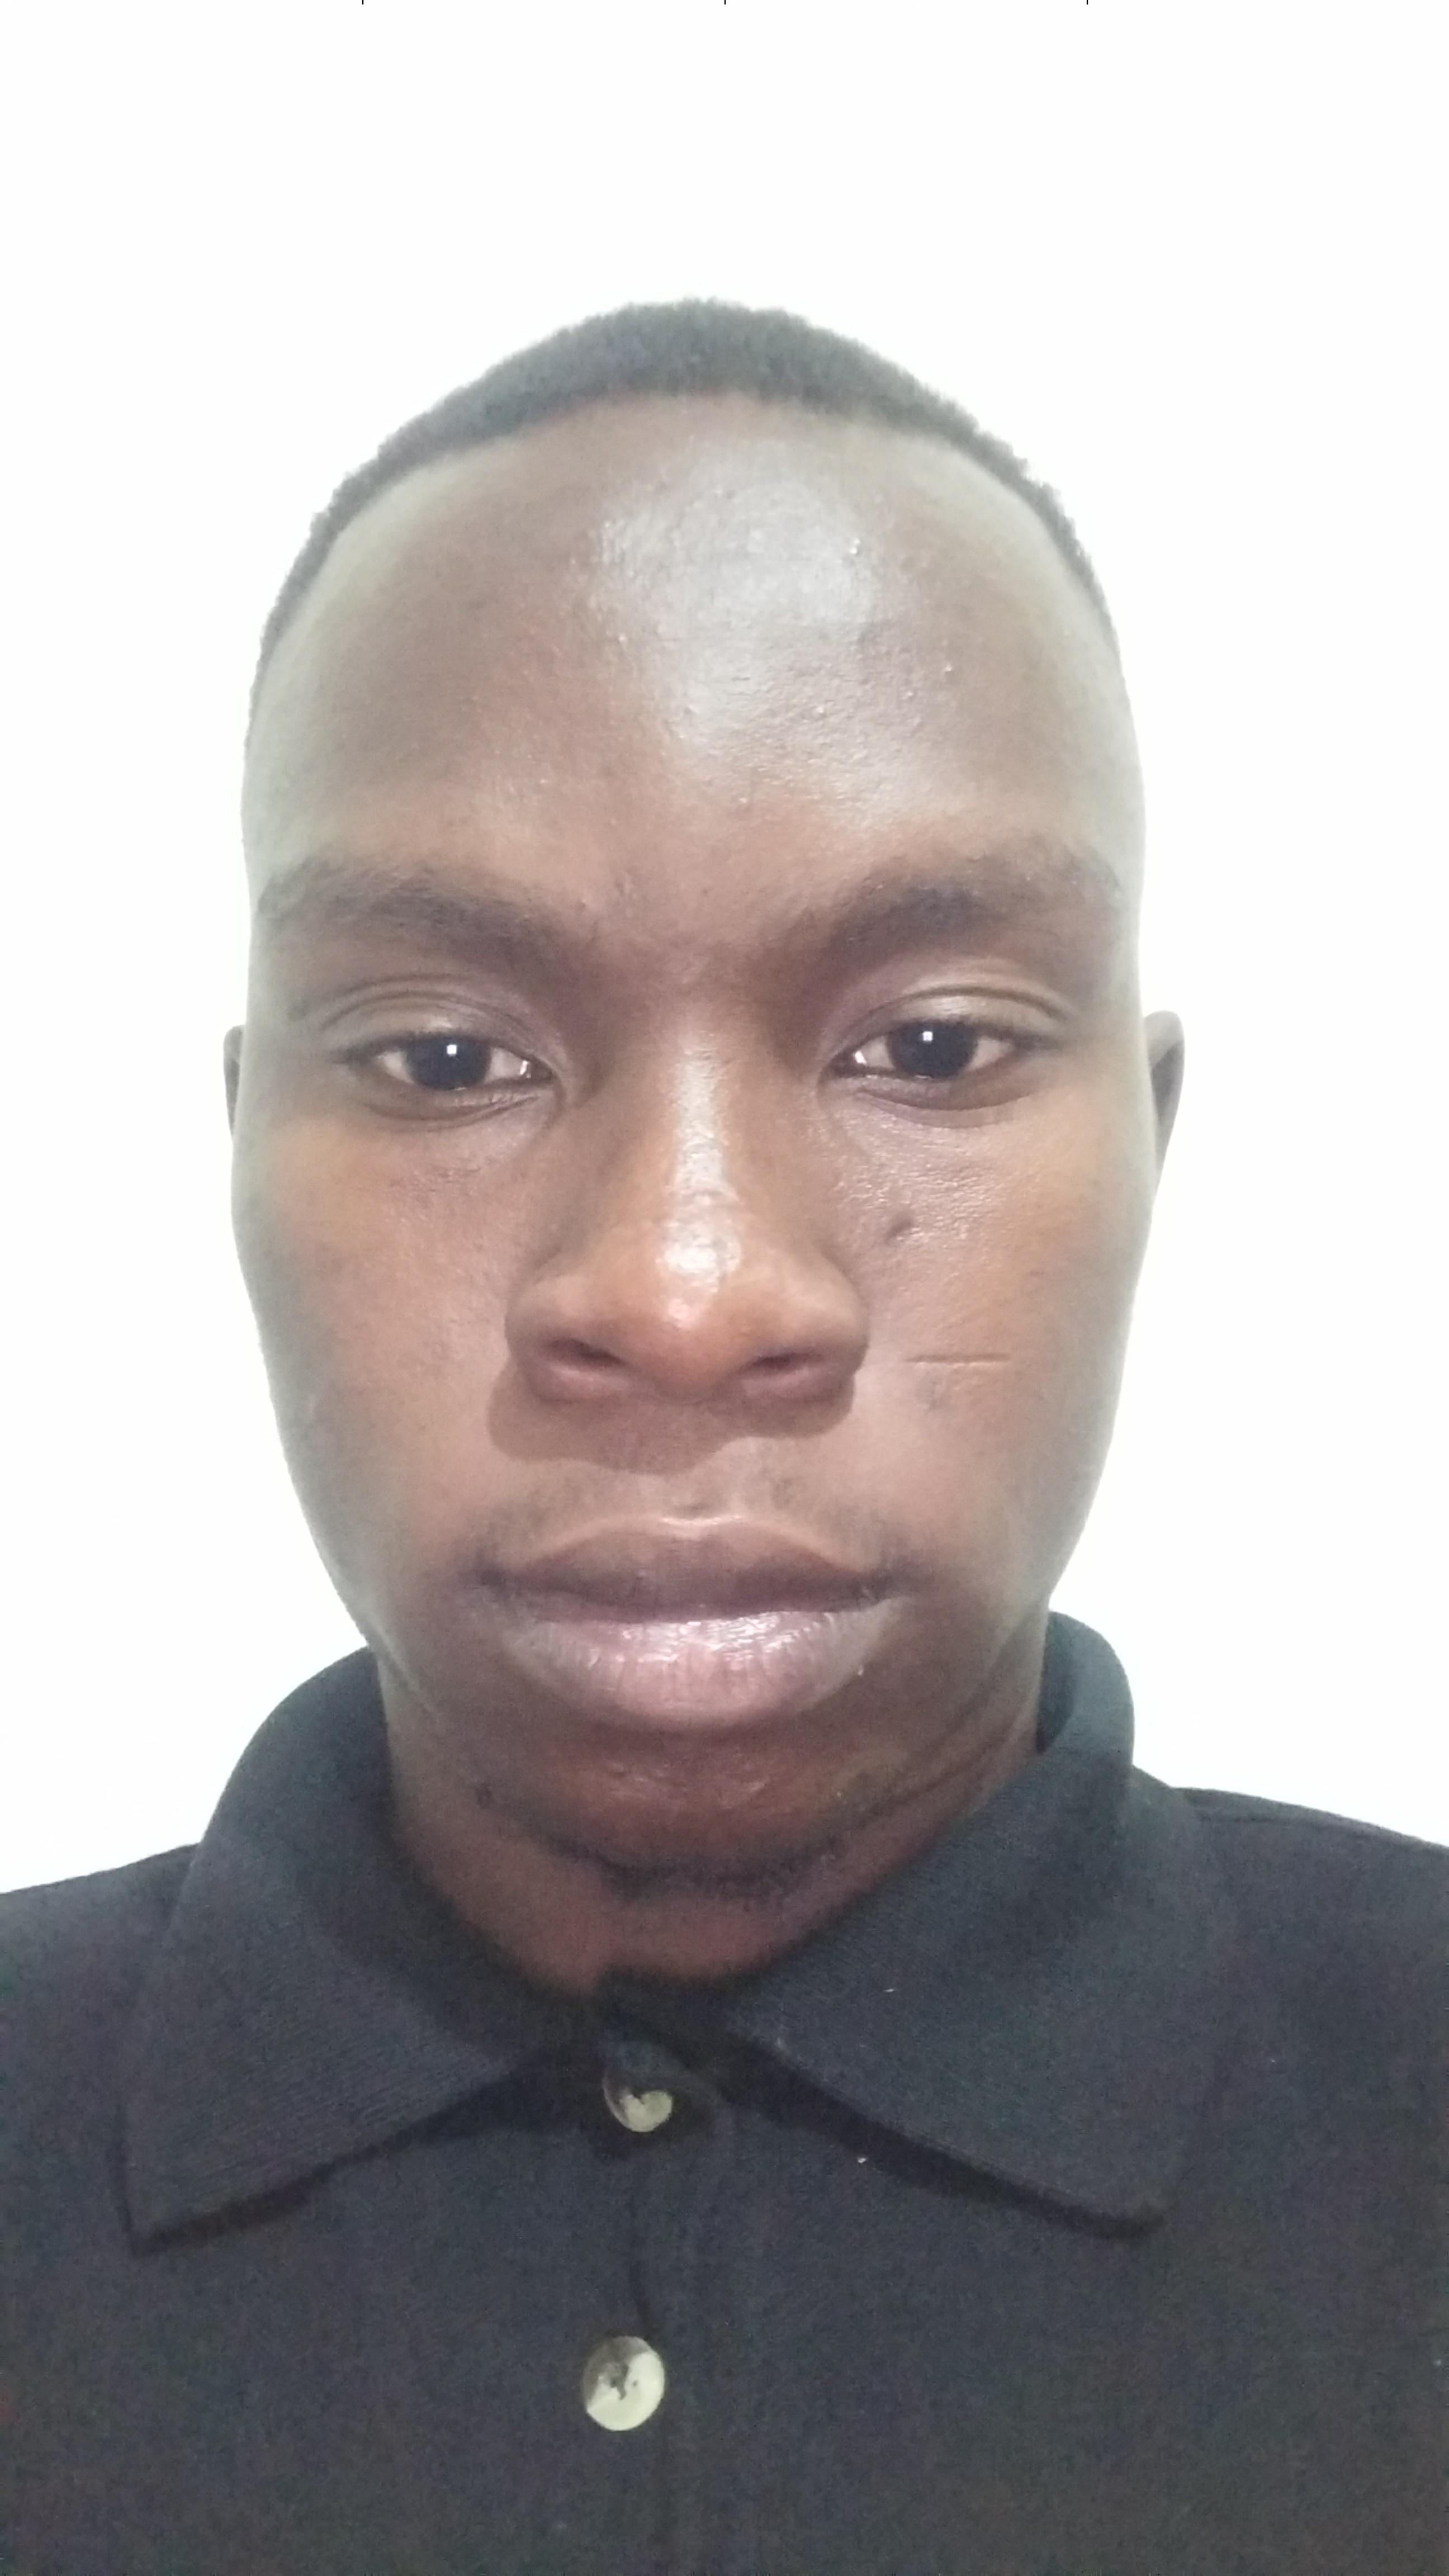Acne: (570, 517, 623, 584), (651, 697, 708, 752), (283, 1380, 329, 1428), (892, 674, 924, 740), (837, 525, 867, 564), (731, 778, 759, 817), (936, 653, 962, 683), (614, 623, 637, 648), (810, 701, 833, 718)
